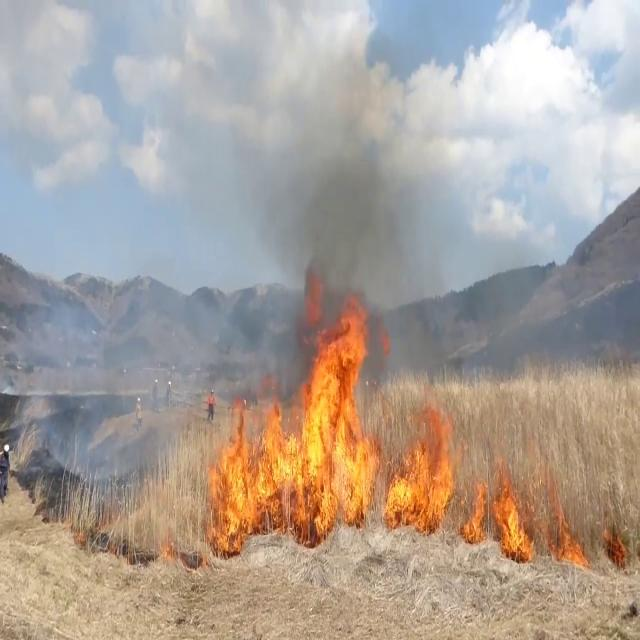Fire: (206, 297, 382, 538), (386, 413, 462, 527), (466, 468, 534, 558), (553, 522, 591, 570)
Smoke: (208, 33, 442, 360), (3, 202, 205, 501)
